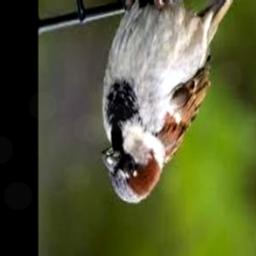Sparrow: (101, 0, 251, 203)
